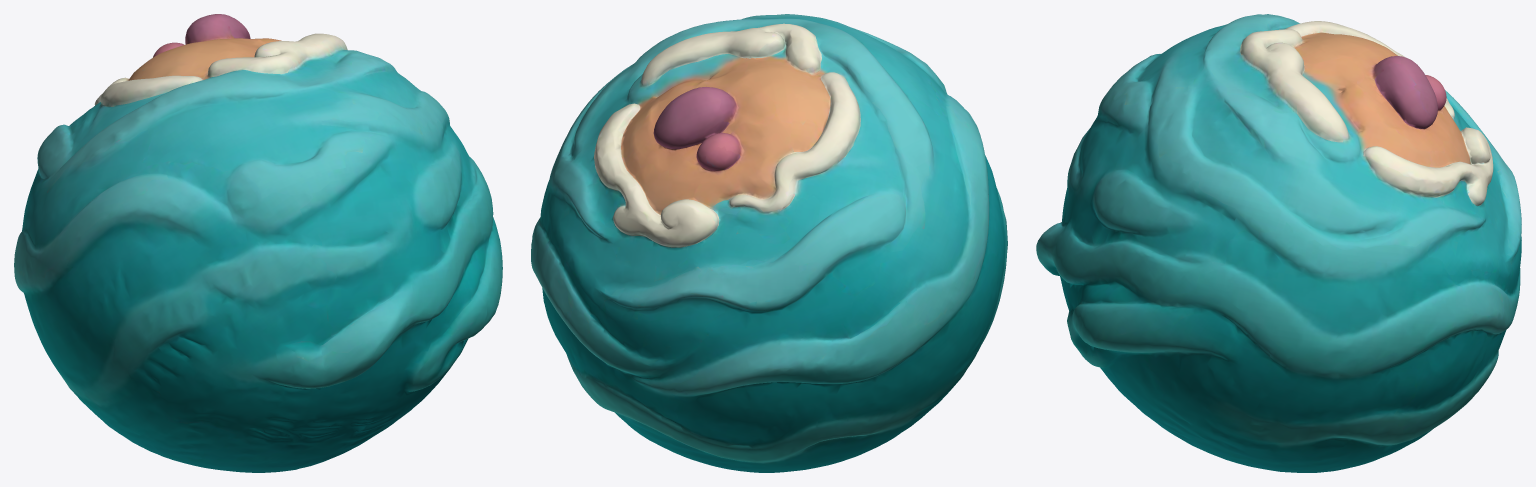
File: planet_ocean.glb
3 views of the same model, side by side, from view 1: azimuth 30°, elevation 25°; view 2: azimuth 150°, elevation 25°; view 3: azimuth 270°, elevation 25° (orthographic).
Parts seen in each view (by area): view 1: geometry_0; view 2: geometry_0; view 3: geometry_0.
Boxes of the visible parts, x1=… form: geometry_0: x1=14, y1=14, x2=502, y2=472; geometry_0: x1=531, y1=14, x2=1007, y2=472; geometry_0: x1=1036, y1=14, x2=1521, y2=472.
Size of the model in its own units: 0.8831 by 0.8314 by 0.8909.
Materials: 1 (1 with a texture image).
